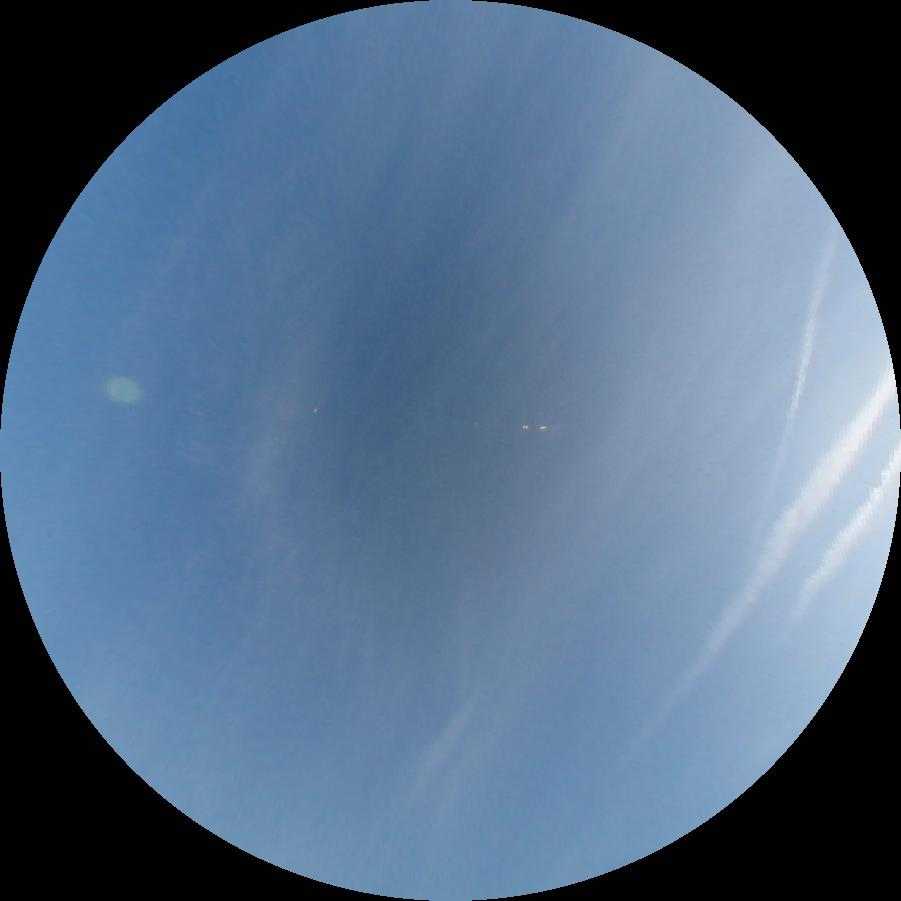contrail veryold: (613, 369, 900, 769), (791, 442, 900, 623), (779, 223, 840, 466)
